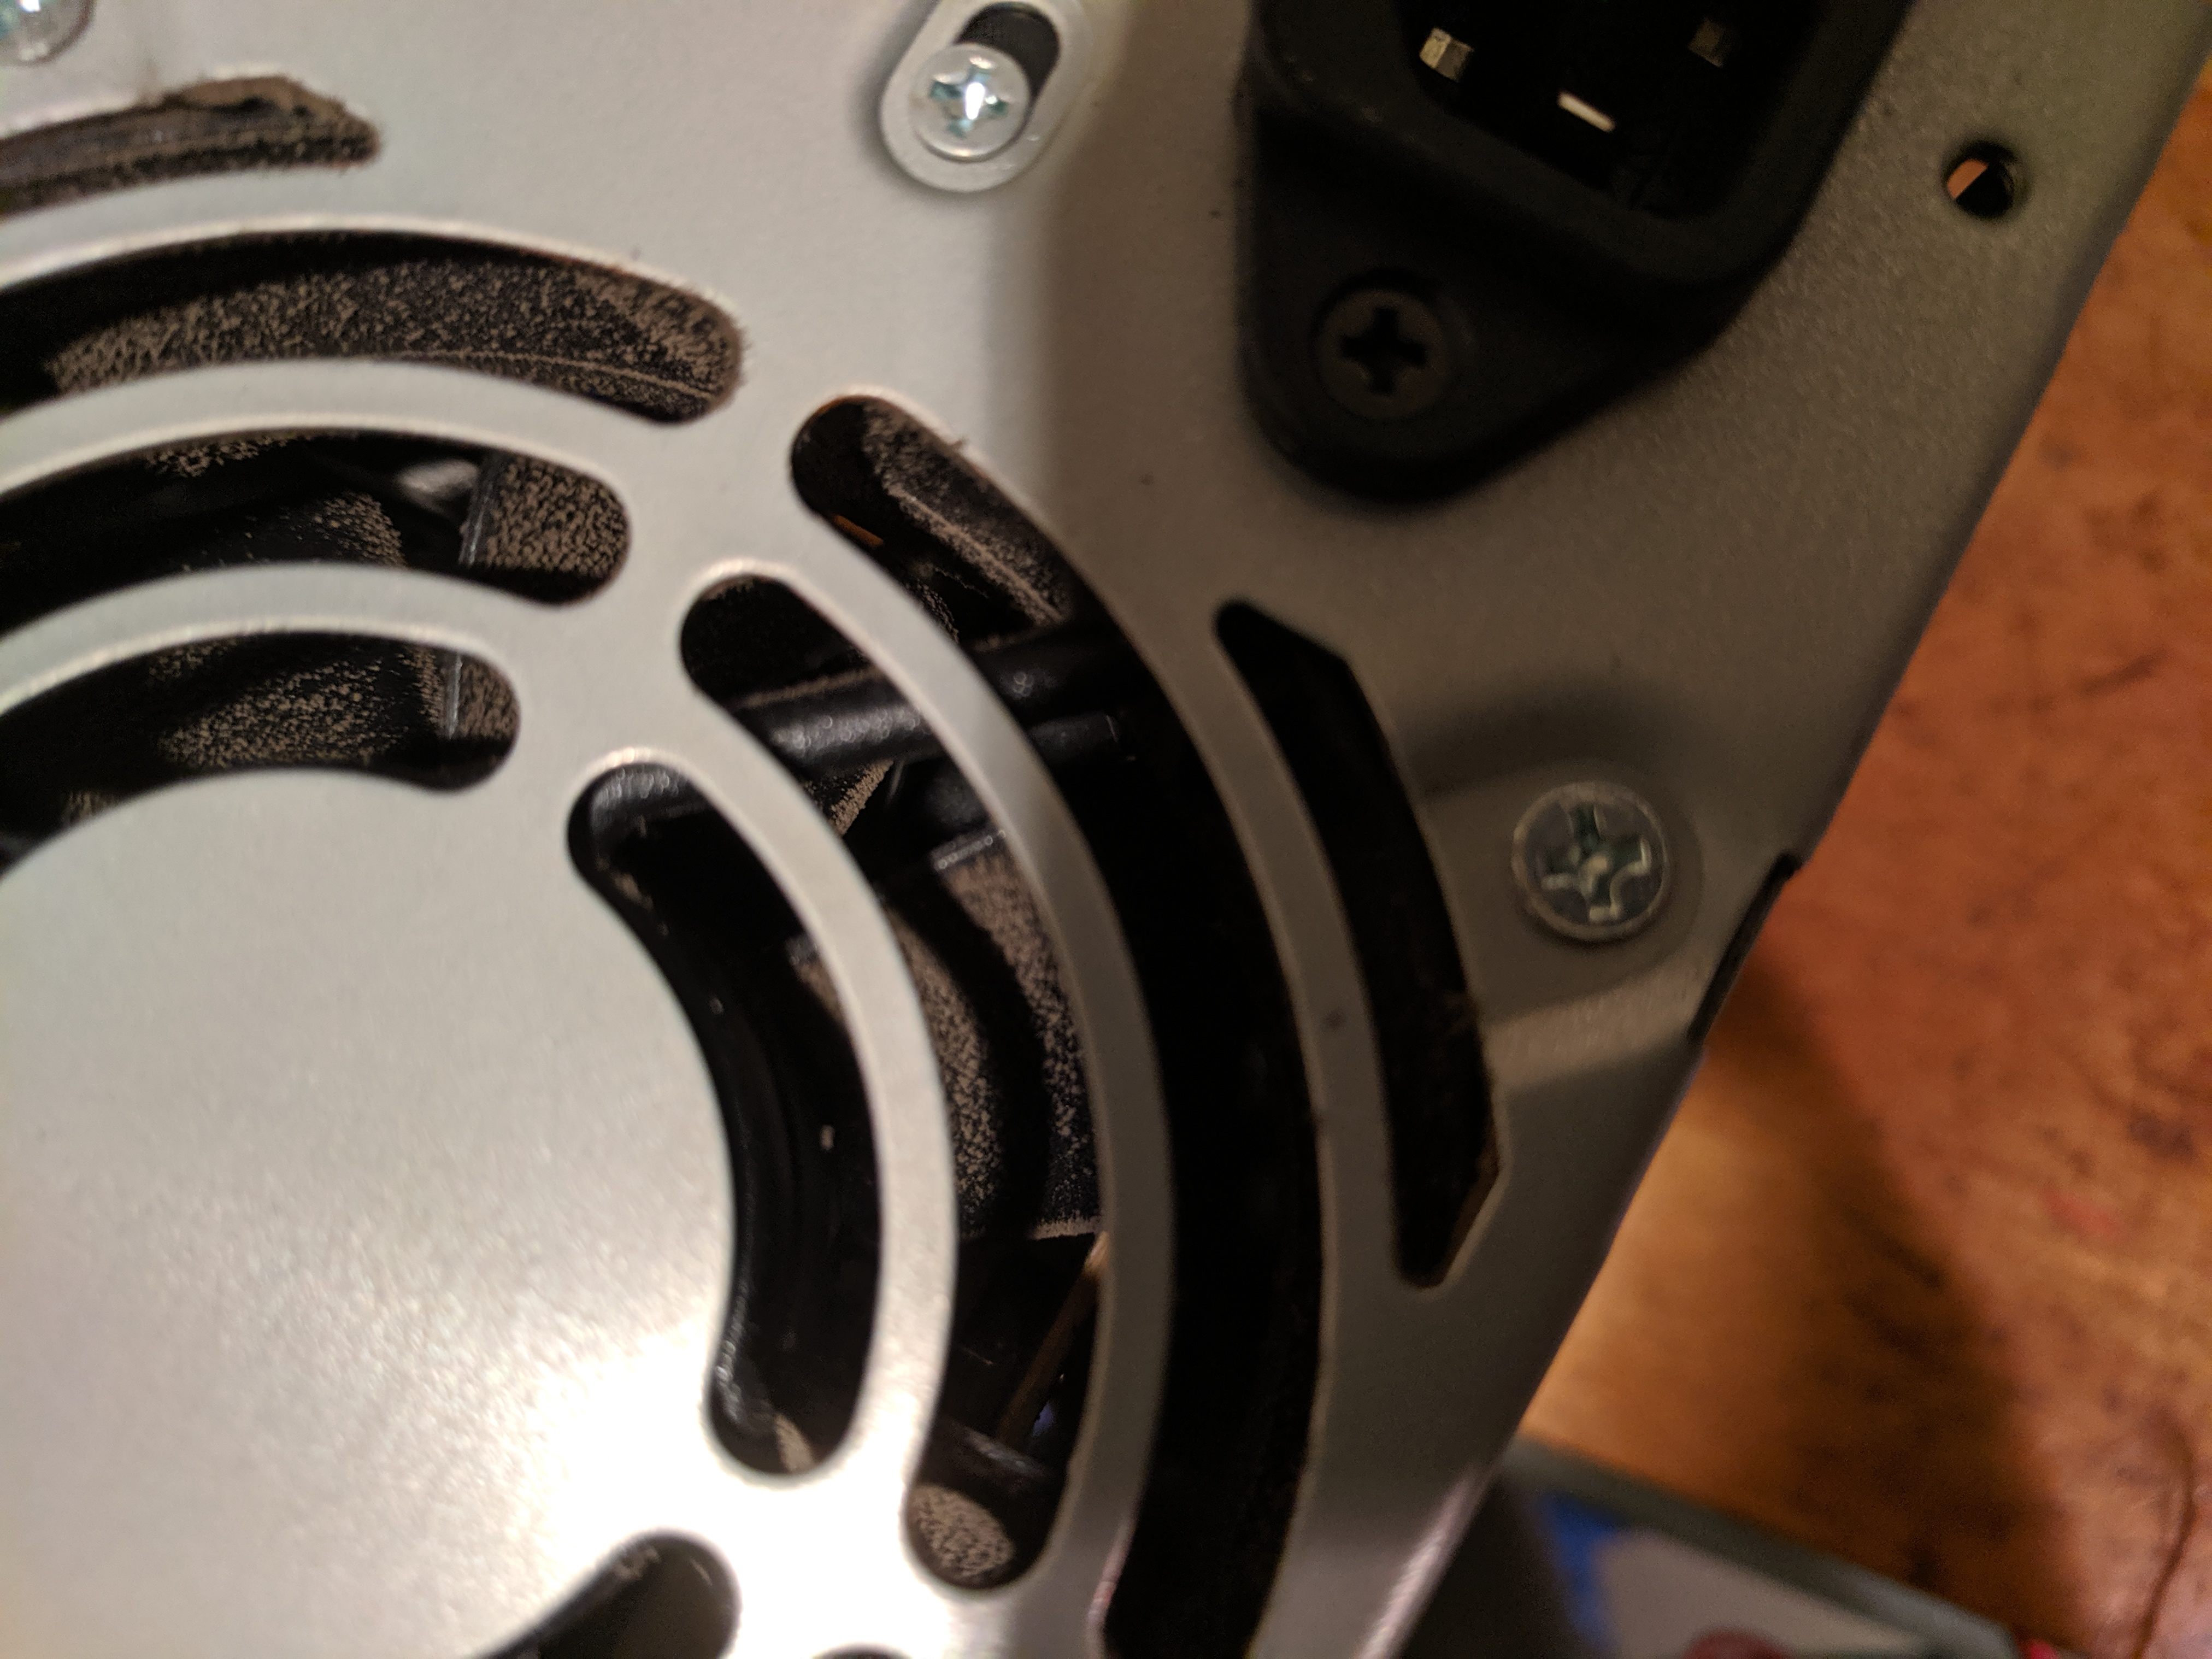cross_recessed_screw: (822, 378, 927, 483), (1416, 413, 1521, 518), (1242, 1182, 1343, 1288), (928, 1155, 1031, 1249)
